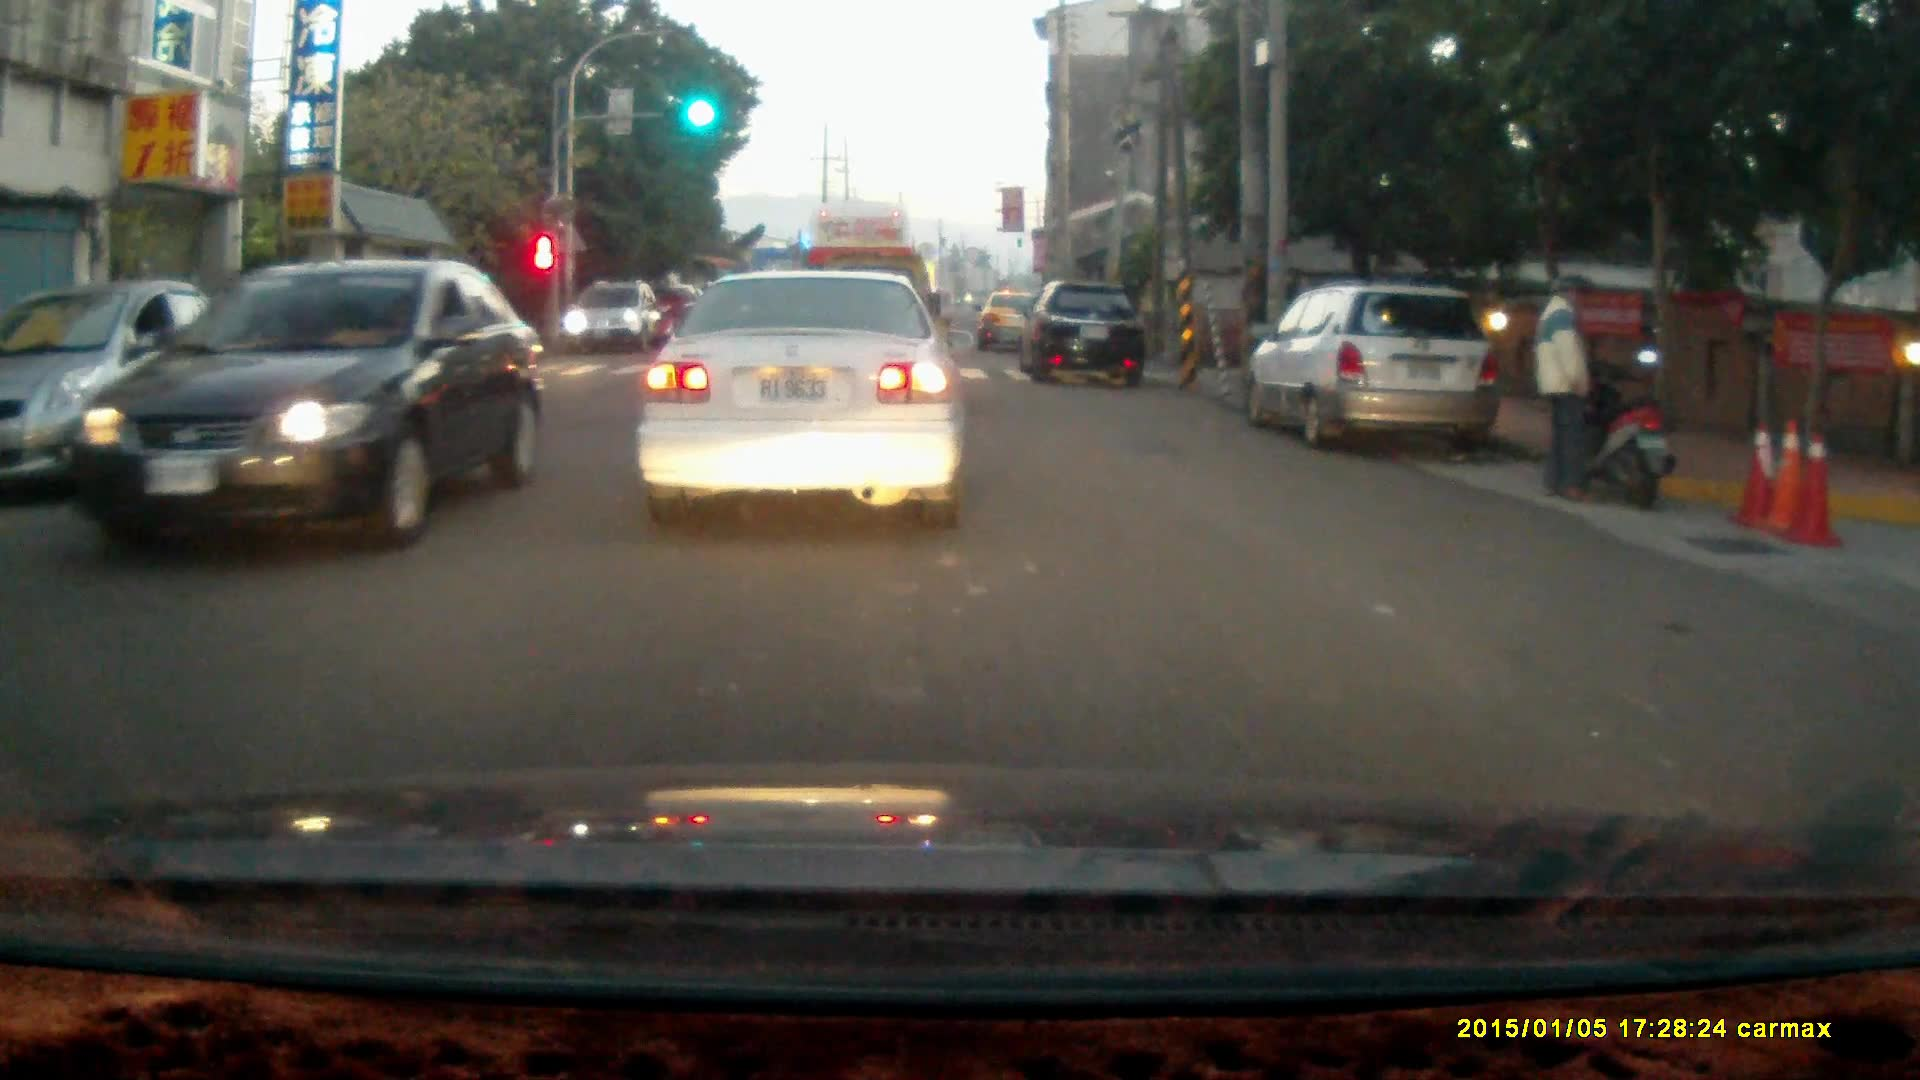pedestrian: (1530, 273, 1600, 508)
rider: (646, 275, 689, 363)
vehicle: (60, 260, 524, 559), (634, 273, 963, 532), (1258, 289, 1503, 462), (805, 204, 925, 374), (1022, 280, 1156, 388), (567, 281, 664, 354)
